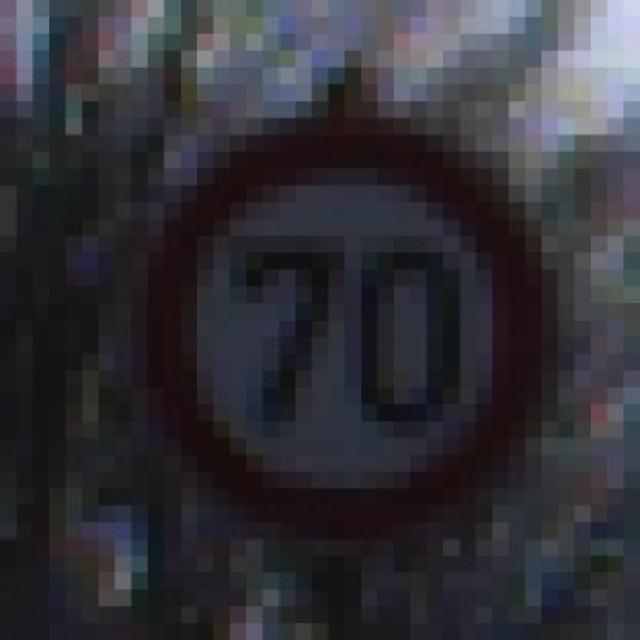forb_speed_over_70: (159, 127, 538, 533)
